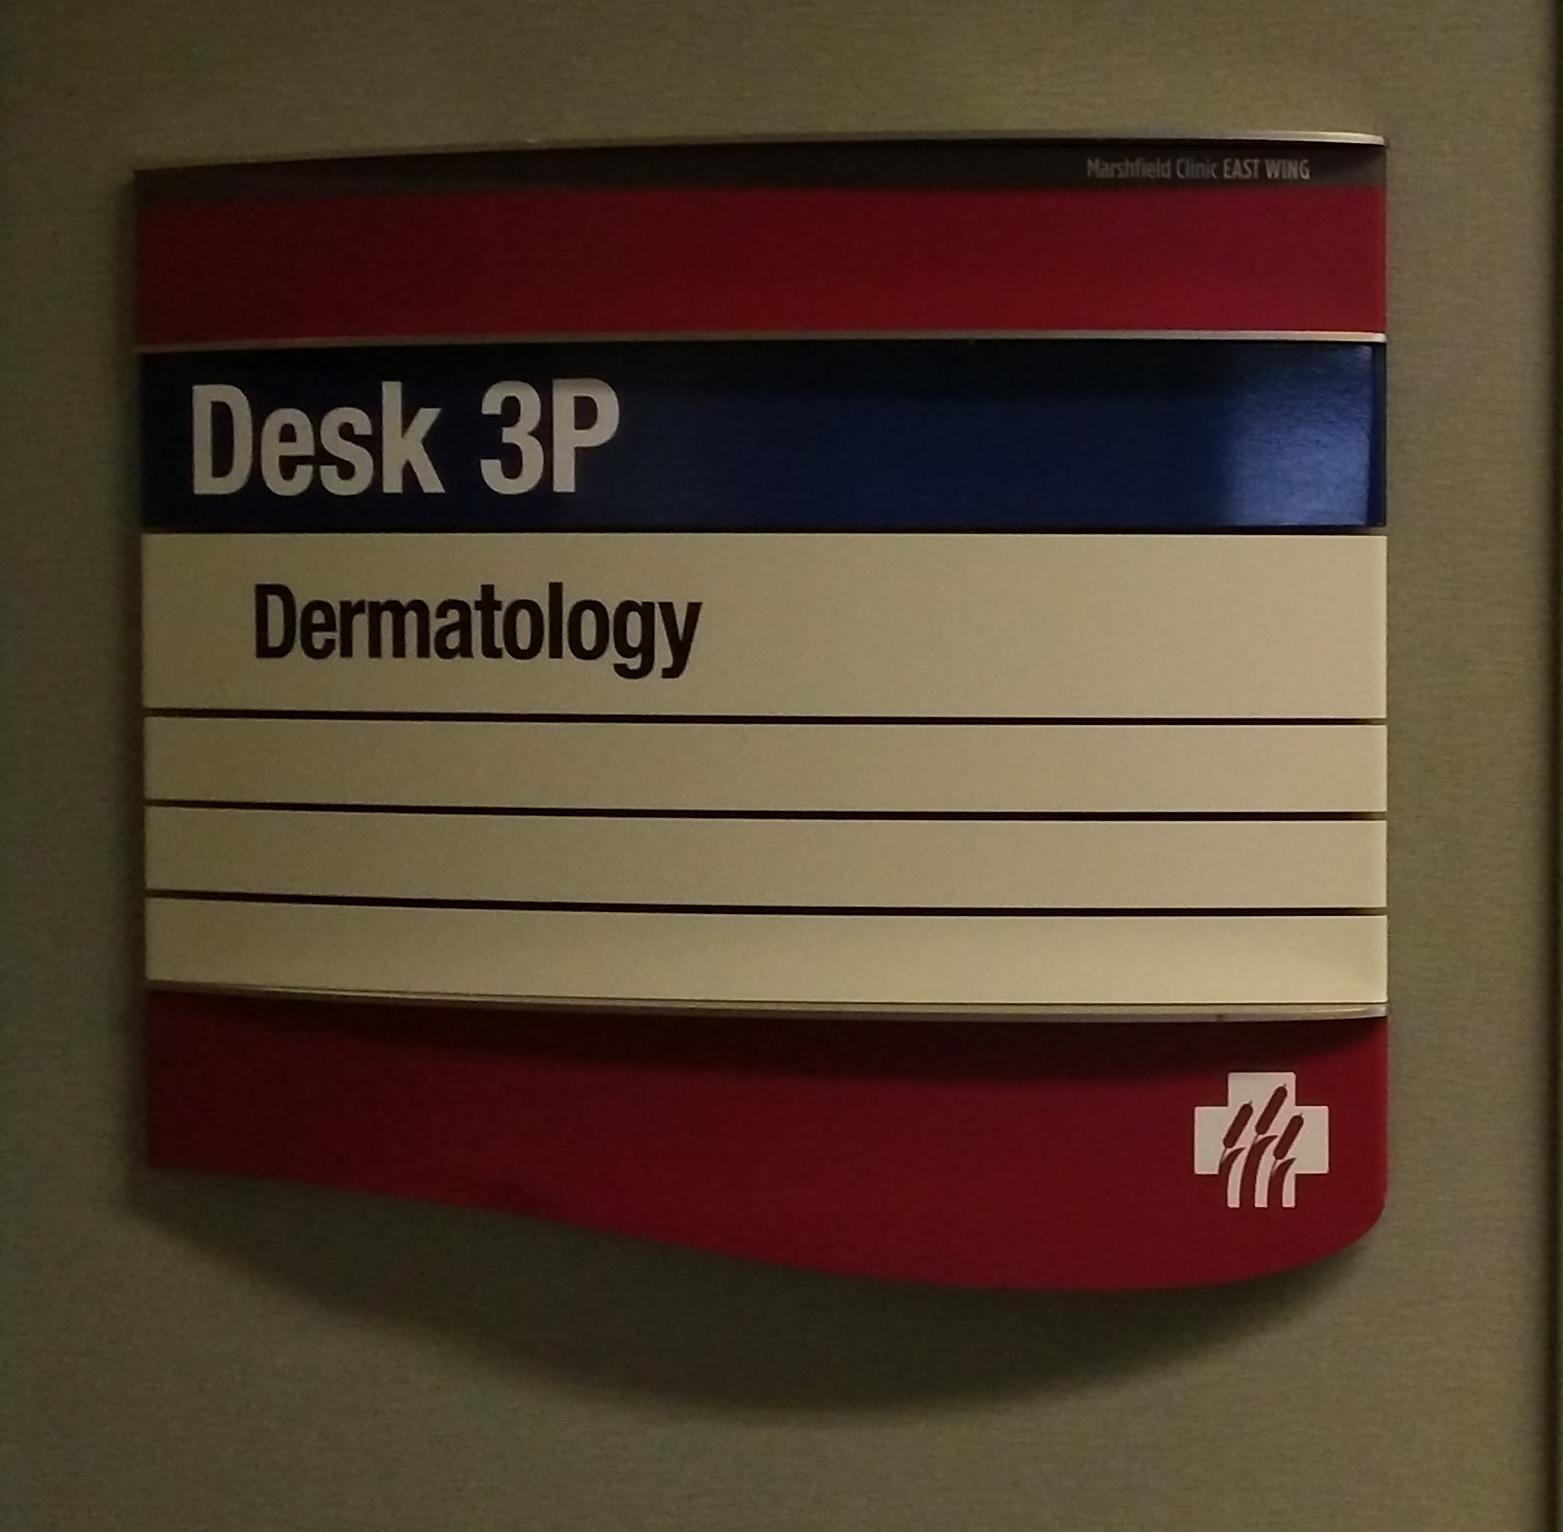sign: (128, 128, 1390, 1289)
